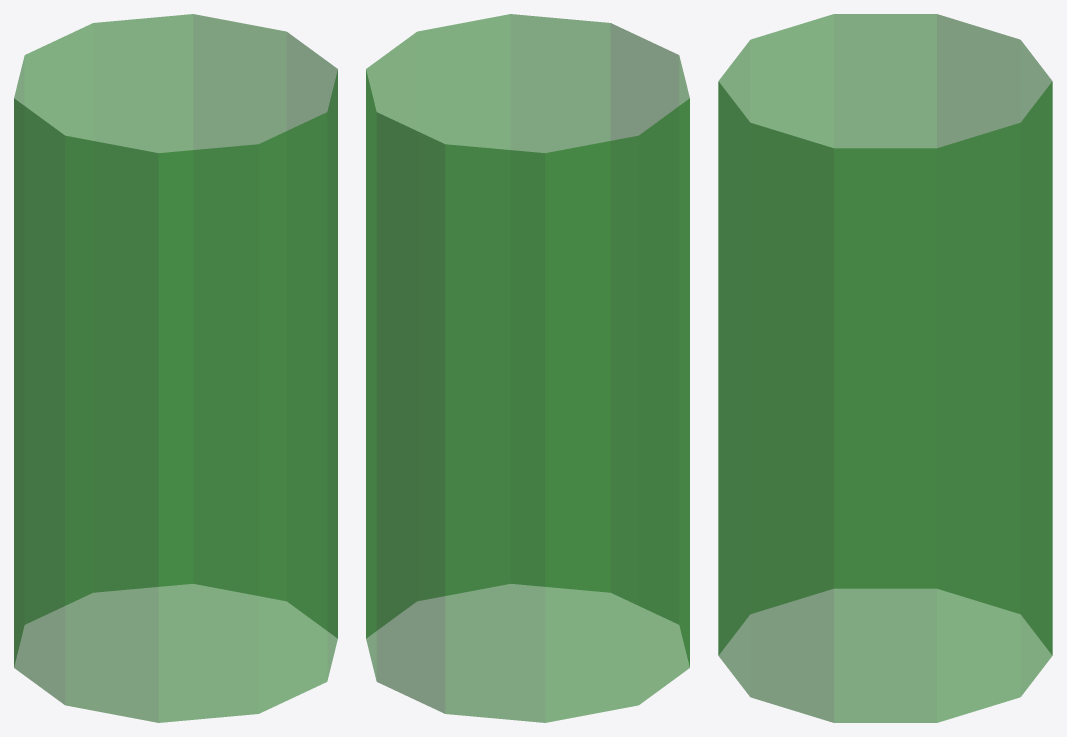
The model's file is air_wall2.obj.
3 renders of one model, left to right at view 1: azimuth 30°, elevation 25°; view 2: azimuth 150°, elevation 25°; view 3: azimuth 270°, elevation 25°, orthographic.
Bounding box in the file's own units: 29.56 × 59 × 31.08.
